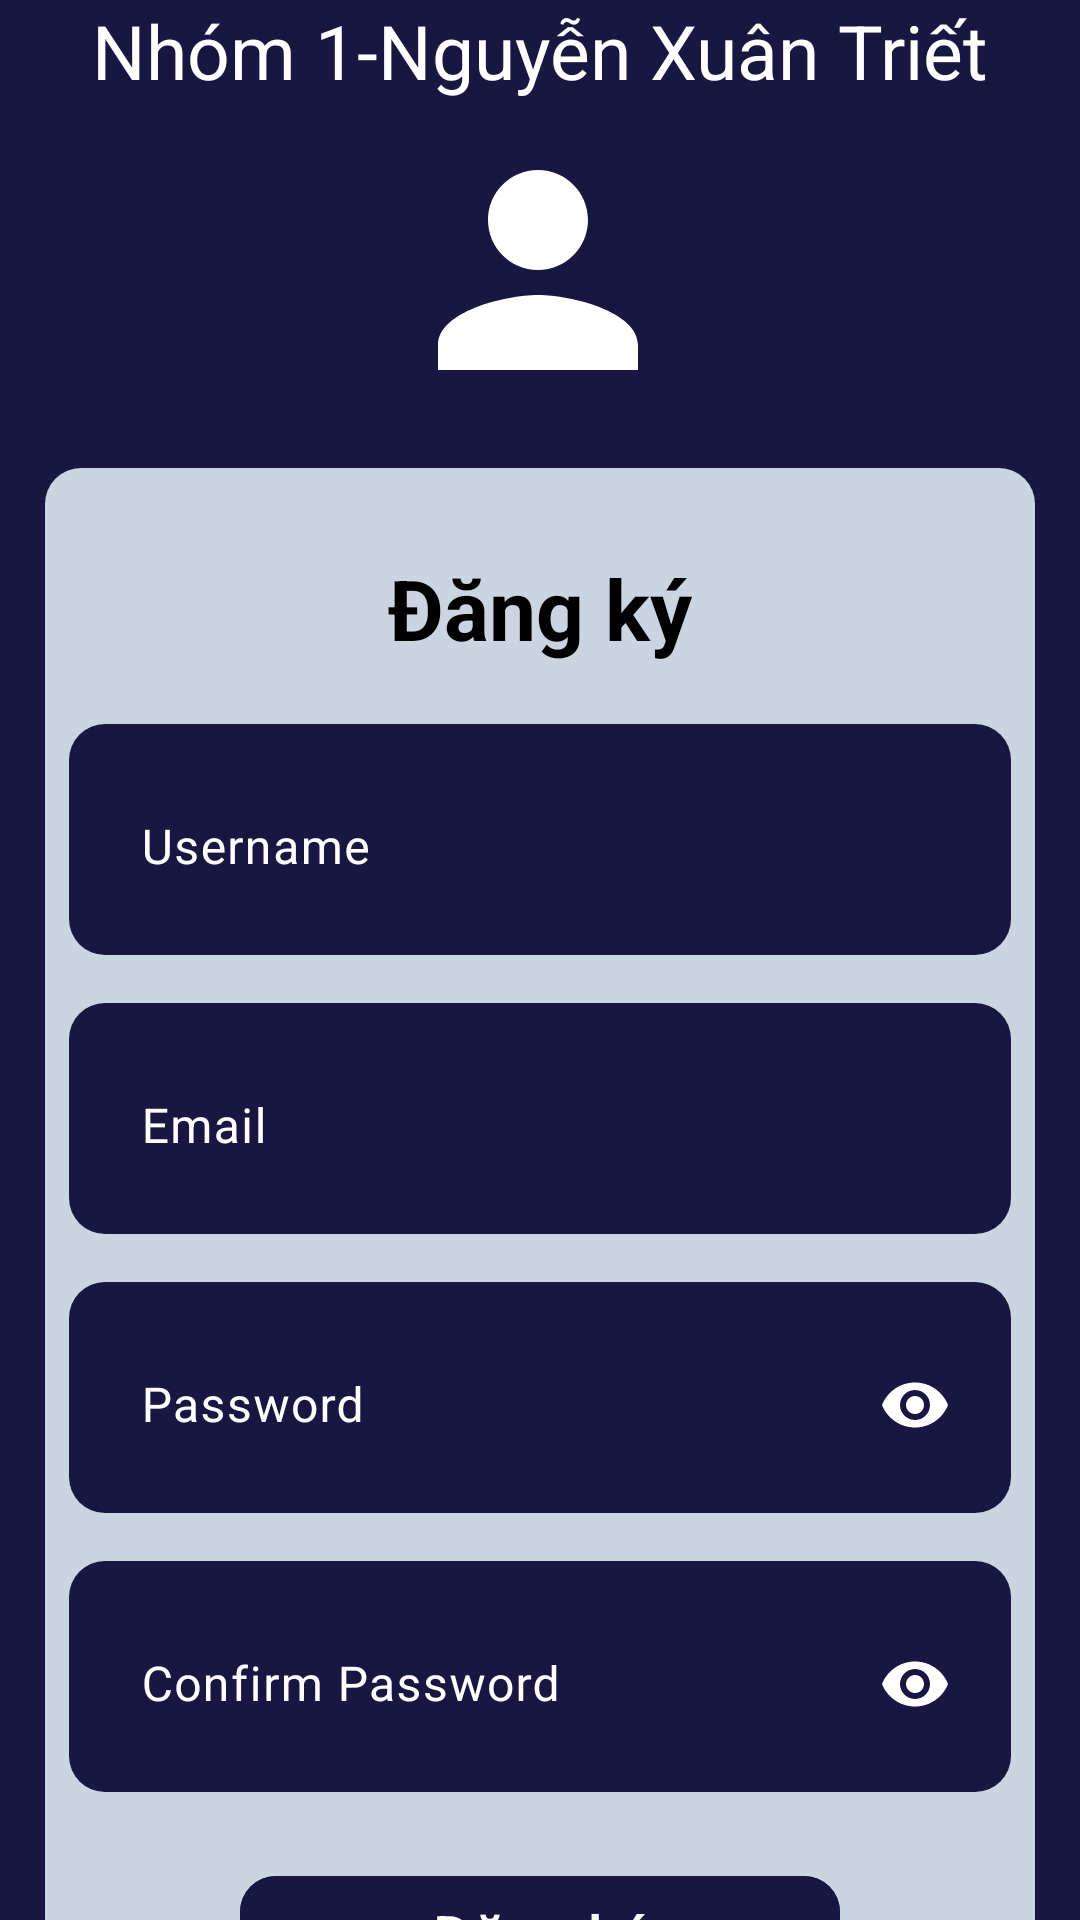

Where to tap for icons on this 1080x1920 app screen, as (x=x, y=y):
person: (x=538, y=270)
